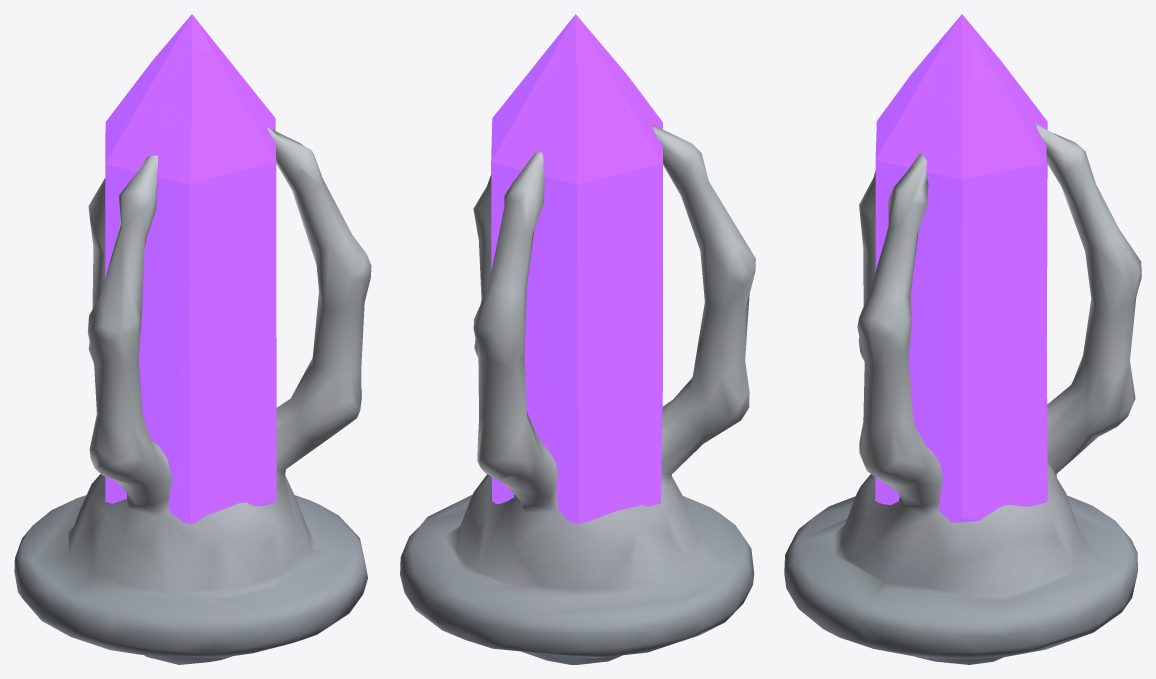
Rendered from crystal-focus.glb.
3 views of the same model, side by side, from view 1: azimuth 30°, elevation 25°; view 2: azimuth 150°, elevation 25°; view 3: azimuth 270°, elevation 25° (orthographic).
Visible parts, largest first — view 1: silver, crystal; view 2: silver, crystal; view 3: silver, crystal.
Part boxes in pixels (x1=…): silver: x1=14, y1=127, x2=371, y2=664; crystal: x1=105, y1=14, x2=276, y2=523; silver: x1=400, y1=125, x2=755, y2=664; crystal: x1=491, y1=14, x2=662, y2=523; silver: x1=784, y1=123, x2=1141, y2=664; crystal: x1=875, y1=14, x2=1047, y2=522.
Size of the model in its own units: 0.1493 by 0.2983 by 0.1509.
Materials: 2 (2 with a texture image).
